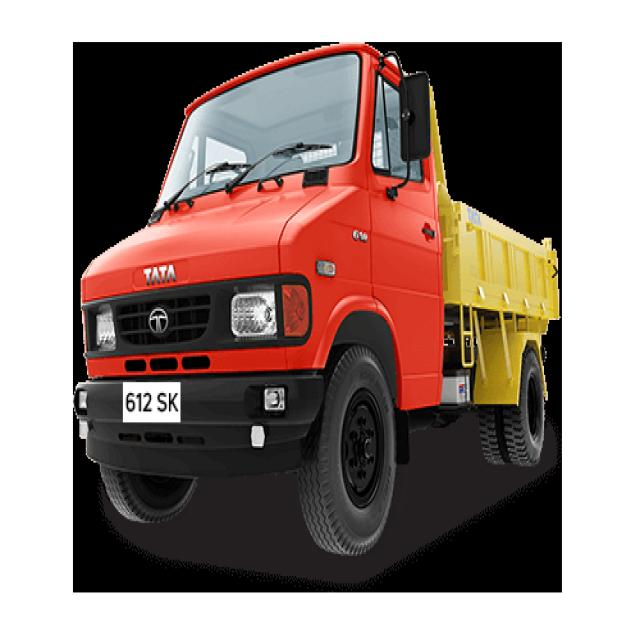dump_truck: (59, 28, 586, 584)
